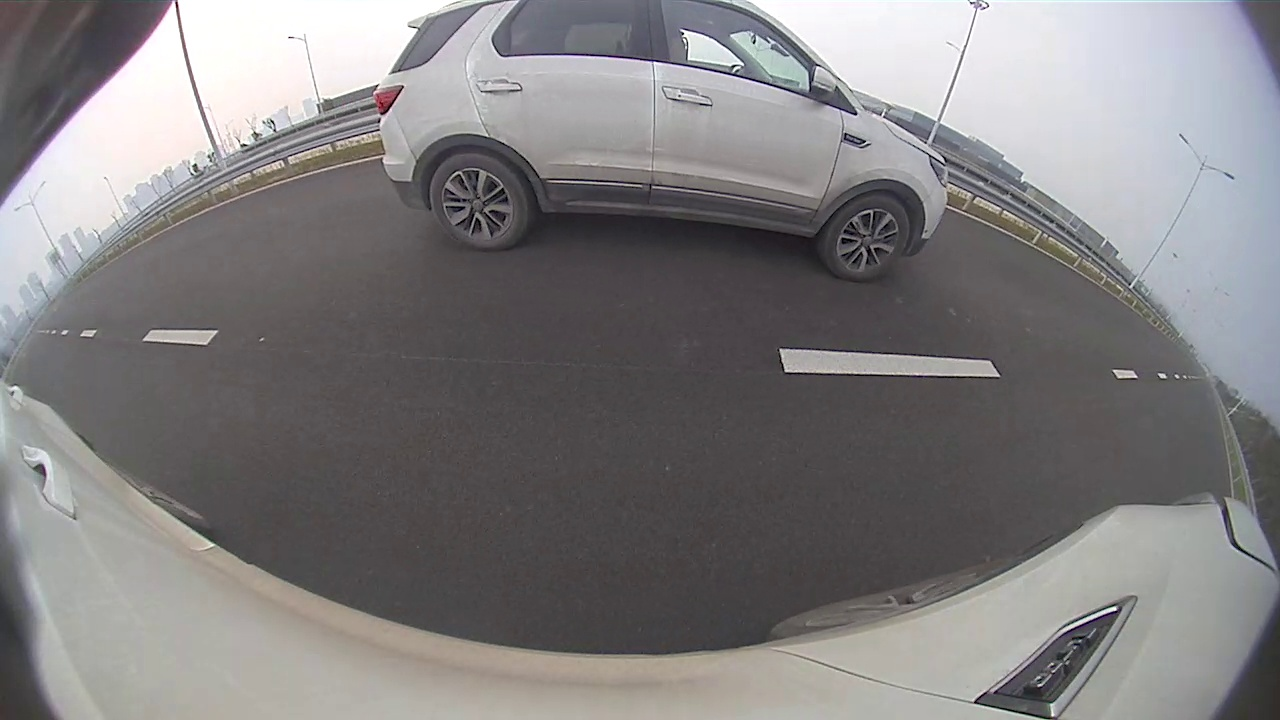car: (373, 1, 948, 280)
front: (824, 194, 912, 281)
rear: (430, 152, 531, 249)
